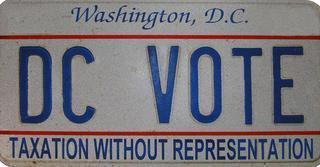placa de veiculo: (5, 2, 318, 167)
